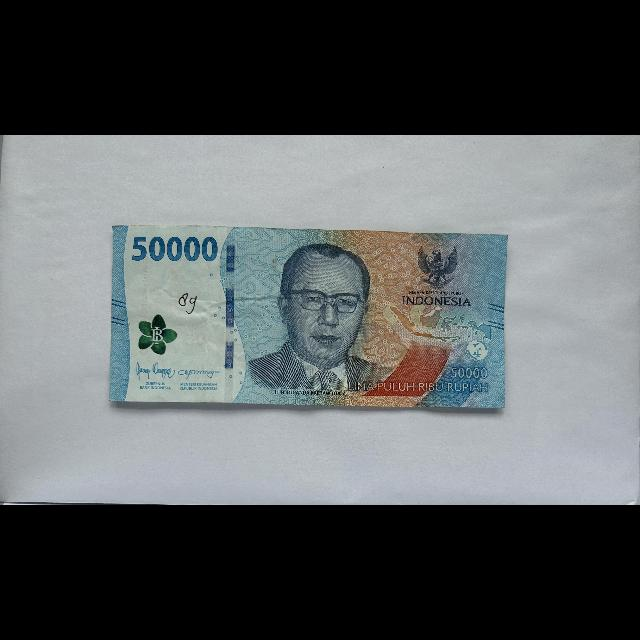Asli-50k: (109, 223, 510, 409)
Tinta-Asli-50k: (138, 313, 179, 356)
